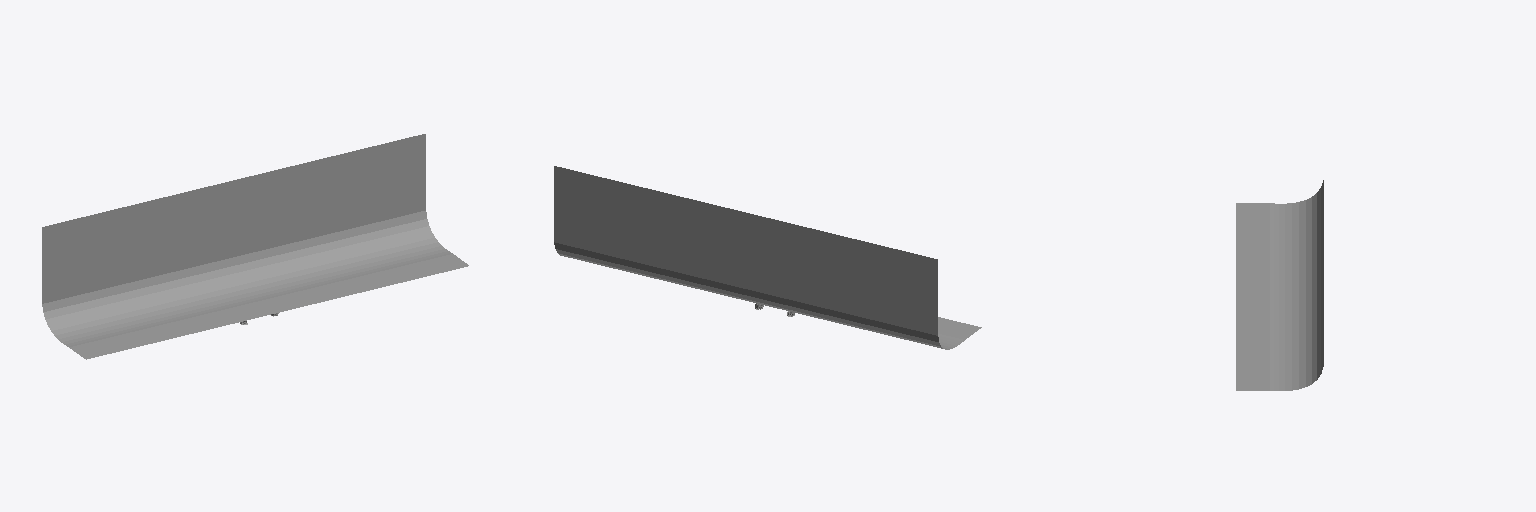
File: title.obj
3 renders of one model, left to right at view 1: azimuth 30°, elevation 25°; view 2: azimuth 150°, elevation 25°; view 3: azimuth 270°, elevation 25°, orthographic.
Visible parts, largest first — view 1: BezierCurve_Mesh; view 2: BezierCurve_Mesh; view 3: BezierCurve_Mesh.
Part boxes in pixels (x1,y1,x2,y2): BezierCurve_Mesh: (42,134,468,359); BezierCurve_Mesh: (554,166,981,349); BezierCurve_Mesh: (1236,180,1323,390).
Bounding box in the file's own units: 103 × 30.48 × 20.41.